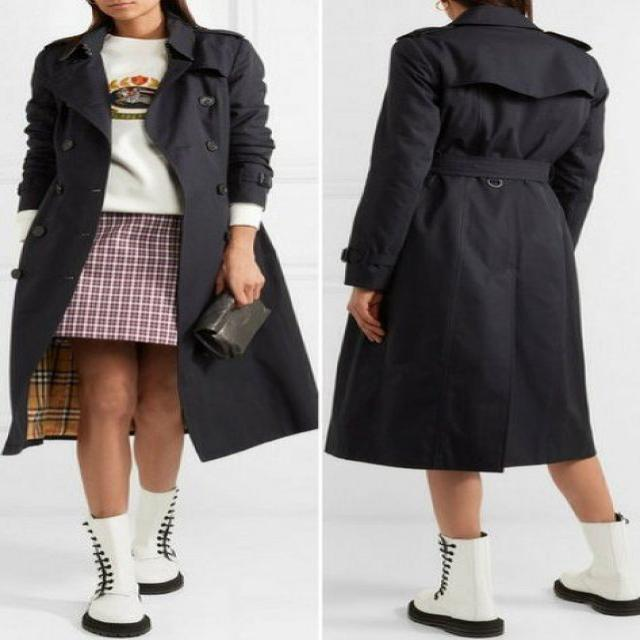coat: (0, 24, 318, 465), (322, 9, 608, 475)
skirt: (45, 213, 188, 345)
sweater: (92, 31, 188, 215)
